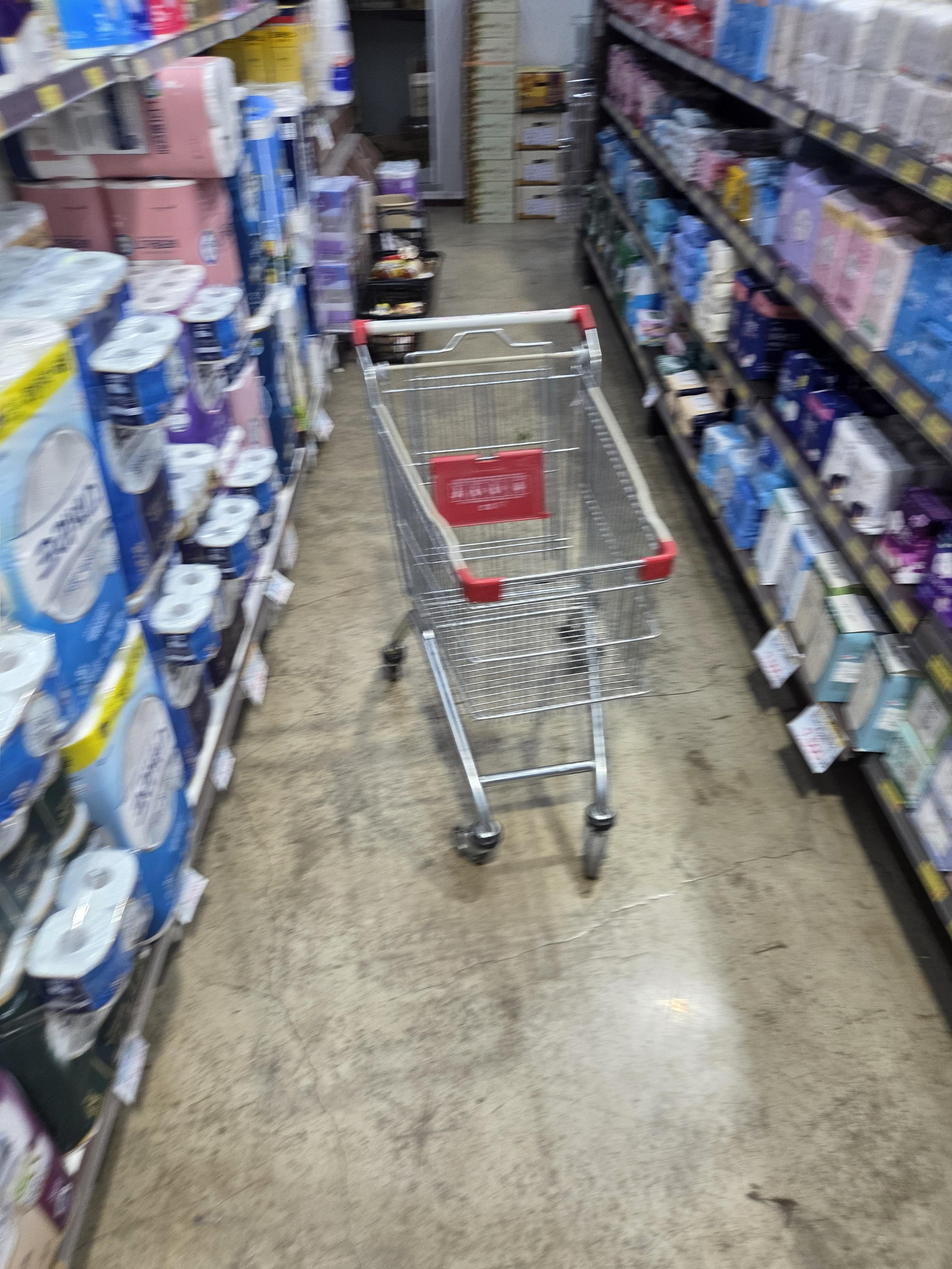empty_cart: (346, 302, 679, 868)
